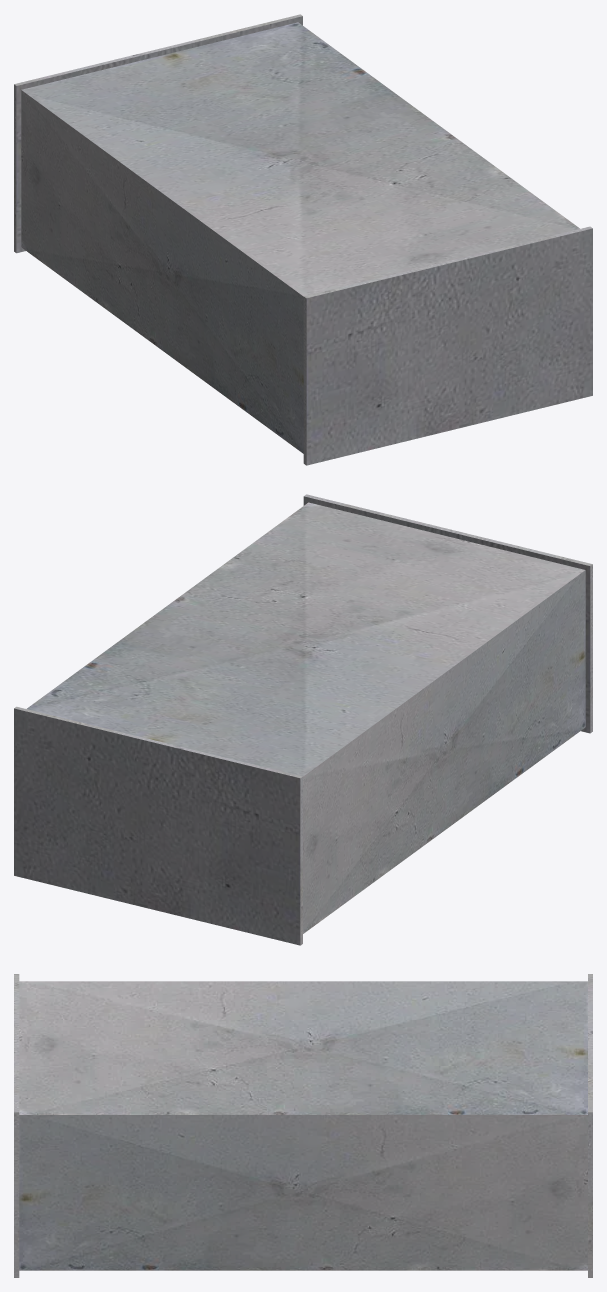
Rendered from vent_large_straight002.glb.
3 renders of one model, top to bottom at view 1: azimuth 30°, elevation 25°; view 2: azimuth 150°, elevation 25°; view 3: azimuth 270°, elevation 25°, orthographic.
Visible parts, largest first — view 1: 0_borealis_vent001; view 2: 0_borealis_vent001; view 3: 0_borealis_vent001.
Part boxes in pixels (box(x1,y1,x2,y2)): 0_borealis_vent001: box(14, 14, 592, 465); 0_borealis_vent001: box(14, 494, 592, 945); 0_borealis_vent001: box(14, 974, 592, 1277).
Bounding box in the file's own units: 0.9192 × 0.513 × 1.63.
1 material, 1 textured.
